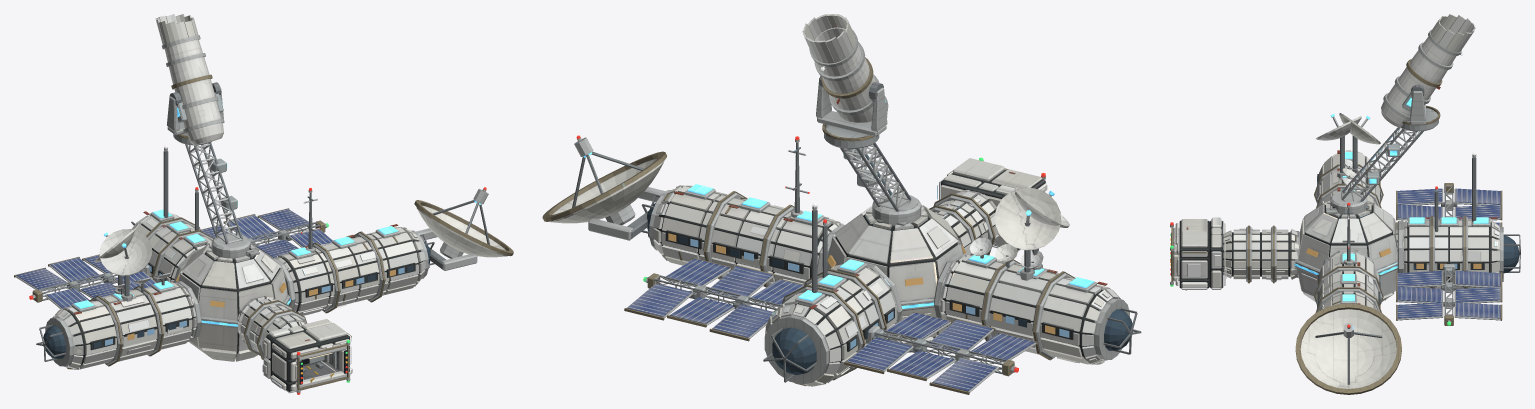
File: research_outpost.glb
3 views of the same model, side by side, from view 1: azimuth 30°, elevation 25°; view 2: azimuth 150°, elevation 25°; view 3: azimuth 270°, elevation 25° (orthographic). The views are drawn at different scales.
Parts seen in each view (by area): view 1: Hull, Lights, Glazing; view 2: Hull, Glazing, Lights; view 3: Hull, Lights, Glazing.
Part boxes in pixels (<box>): Hull: <box>14,14,513,393</box>; Lights: <box>29,145,486,394</box>; Glazing: <box>43,241,430,358</box>; Hull: <box>542,14,1141,394</box>; Glazing: <box>647,203,1132,375</box>; Lights: <box>576,66,1069,372</box>; Hull: <box>1170,14,1520,394</box>; Lights: <box>1170,52,1481,327</box>; Glazing: <box>1317,176,1519,307</box>.
Size of the model in its own units: 81.48 by 49.82 by 55.97.
3 materials, 2 textured.
